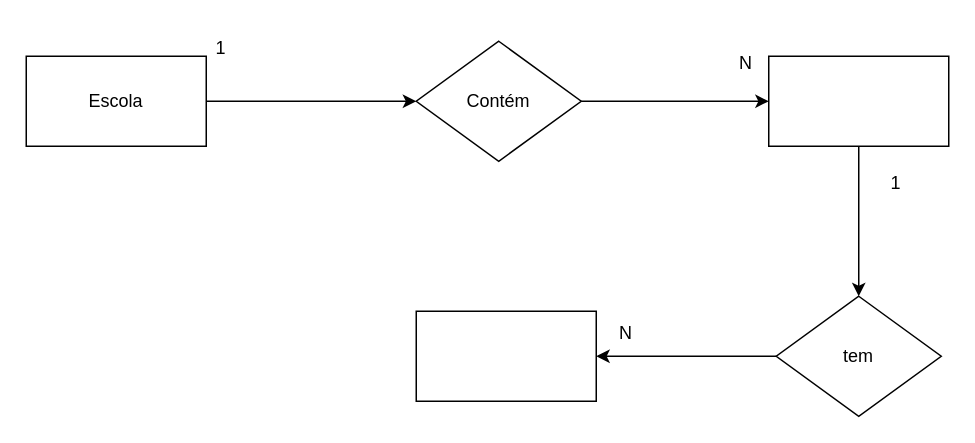
Some shapes in this 975 by 443 pixel diagram are drawn without their labels. Each missing label, with the centre of its shape:
"Aluno" belongs at point (858, 100).
"Trabalho" belongs at point (505, 355).
